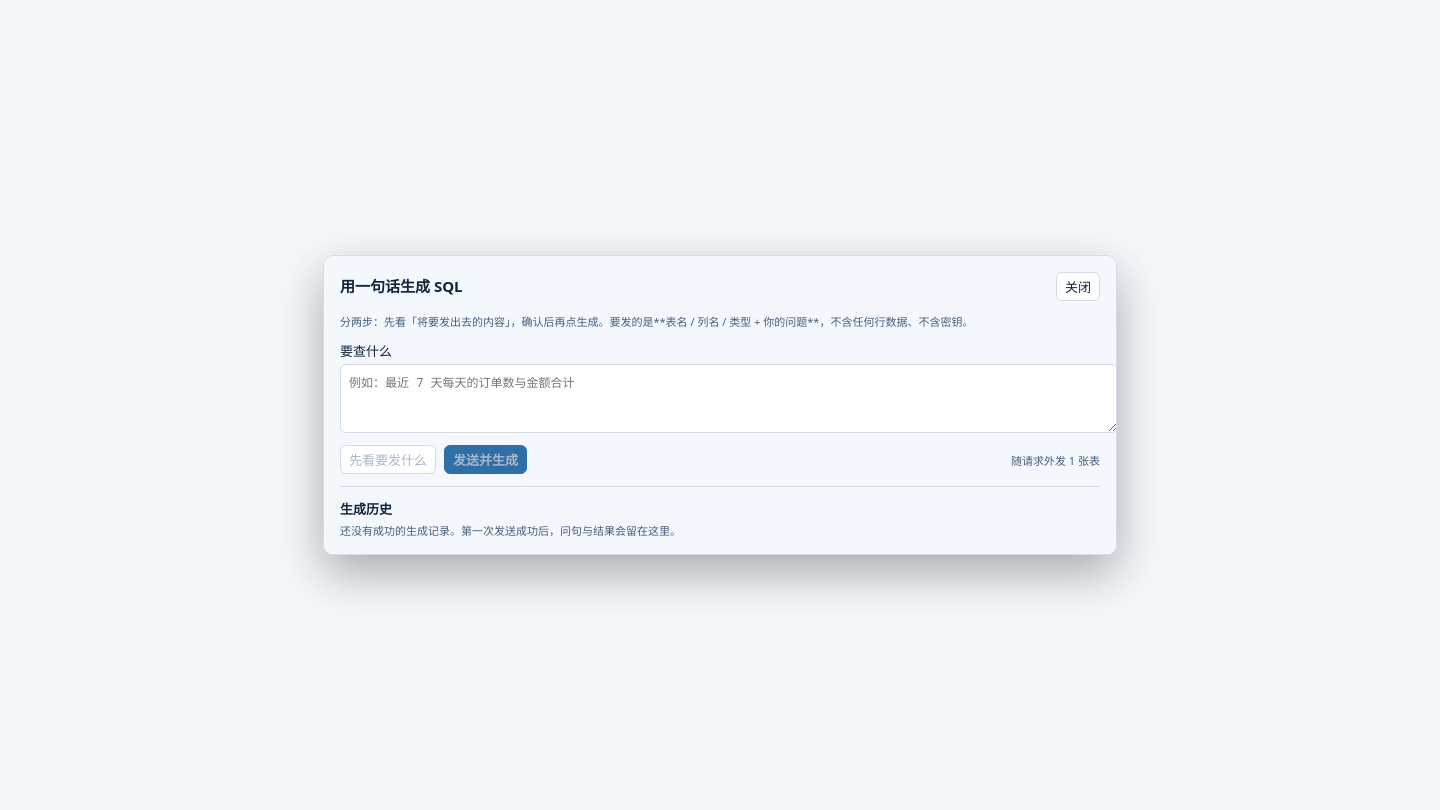
Test case: AgentGenerateDialog（FR-AI-02） › 缺项时把那几条逐条列出来（不是只说「不能发」）
The width and height of the screenshot is (1440, 810).
Type "最近 7 天的订单数" into the text box with test id "generate-question" at (729, 398), box [340,364,1118,433]
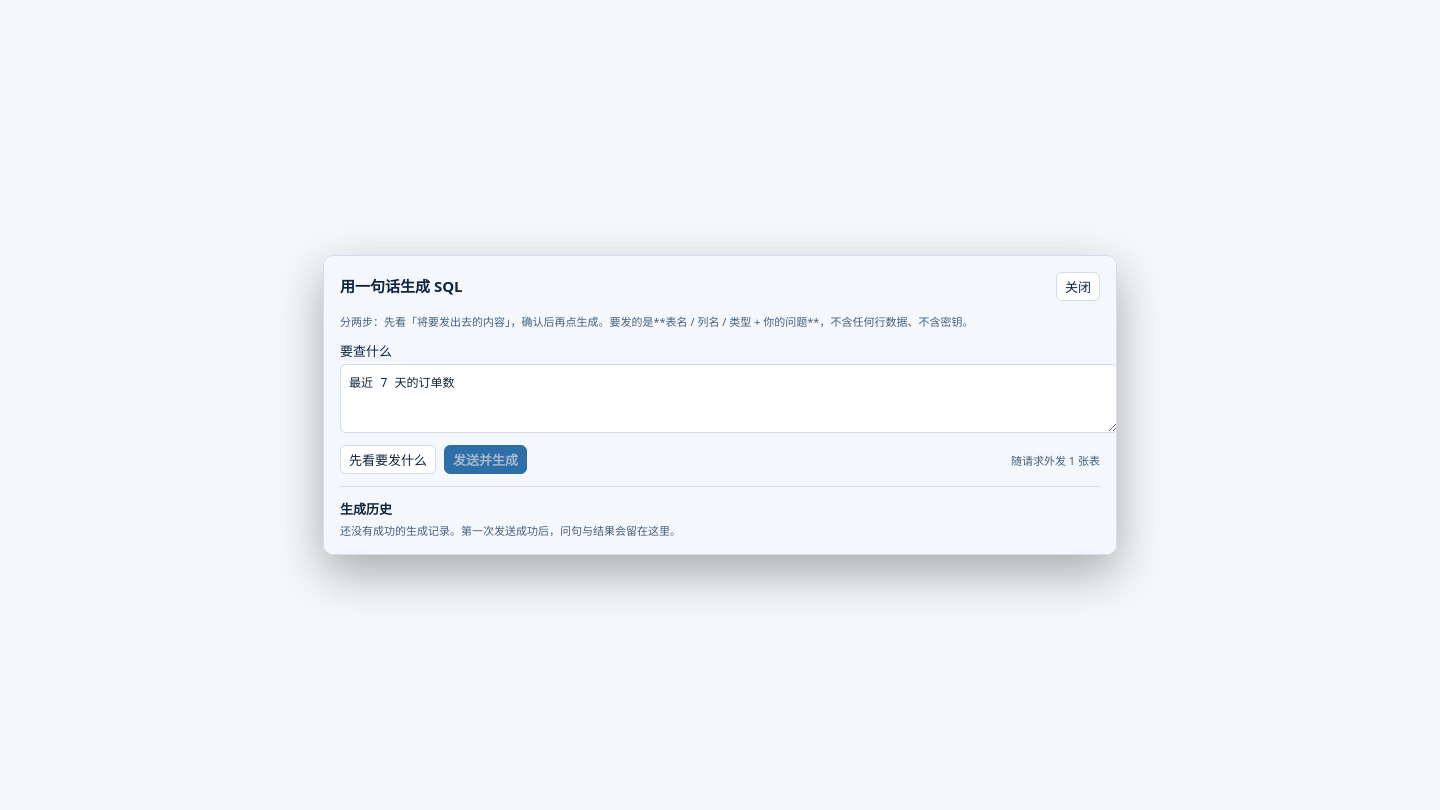
Click the button with test id "generate-preview" at (388, 460), box [340,445,436,474]
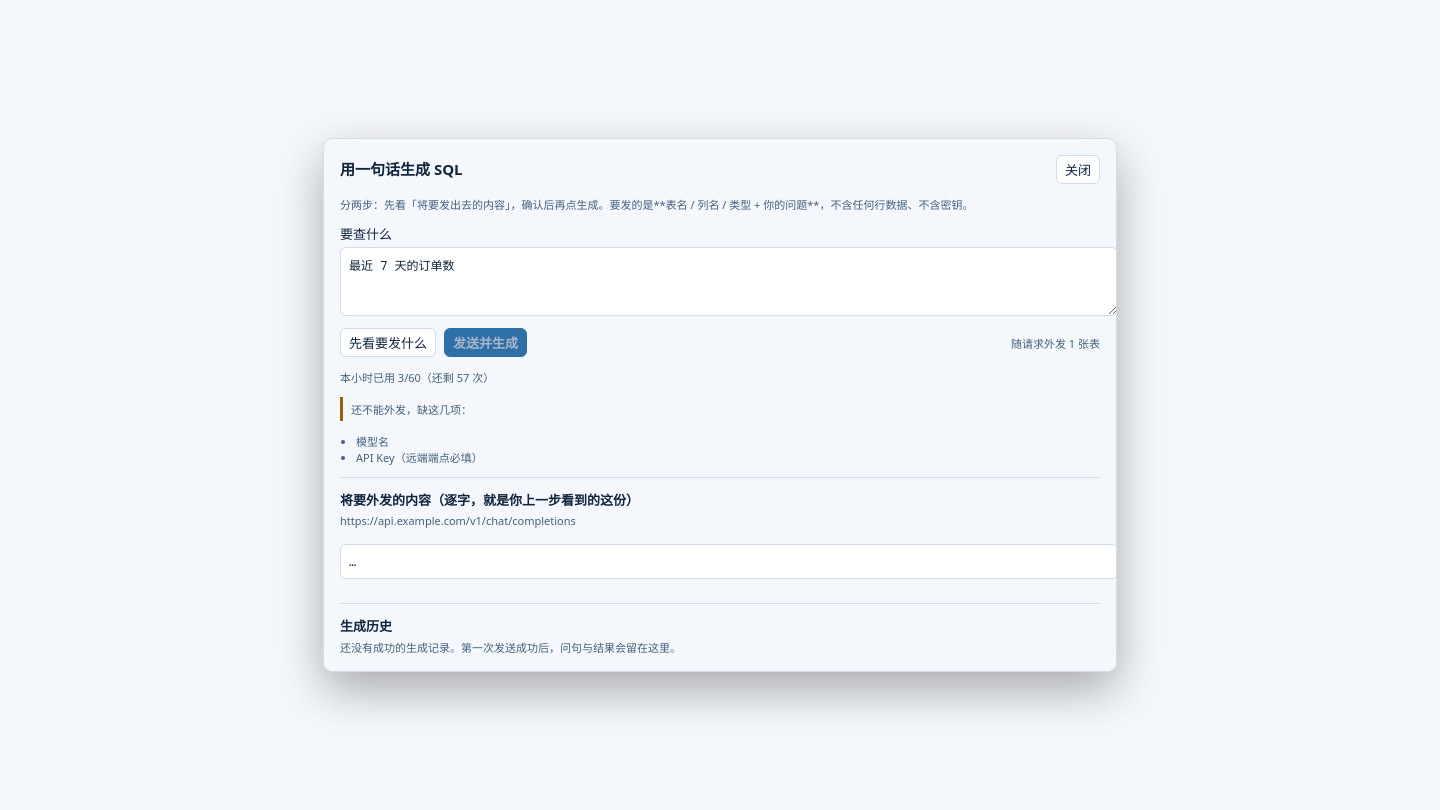
Expected: the button with test id "generate-send" is disabled, [444,328,527,357]
Expected: the list with test id "generate-issues" shows "模型名", [356,434,389,449]
Expected: the list with test id "generate-issues" shows "API Key", [356,450,483,465]
